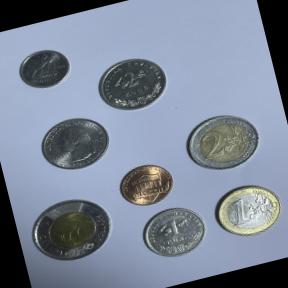coin: (22, 188, 121, 270), (178, 105, 268, 179), (31, 108, 120, 179), (90, 48, 174, 119), (207, 175, 288, 245), (114, 156, 180, 212), (12, 41, 78, 95)
